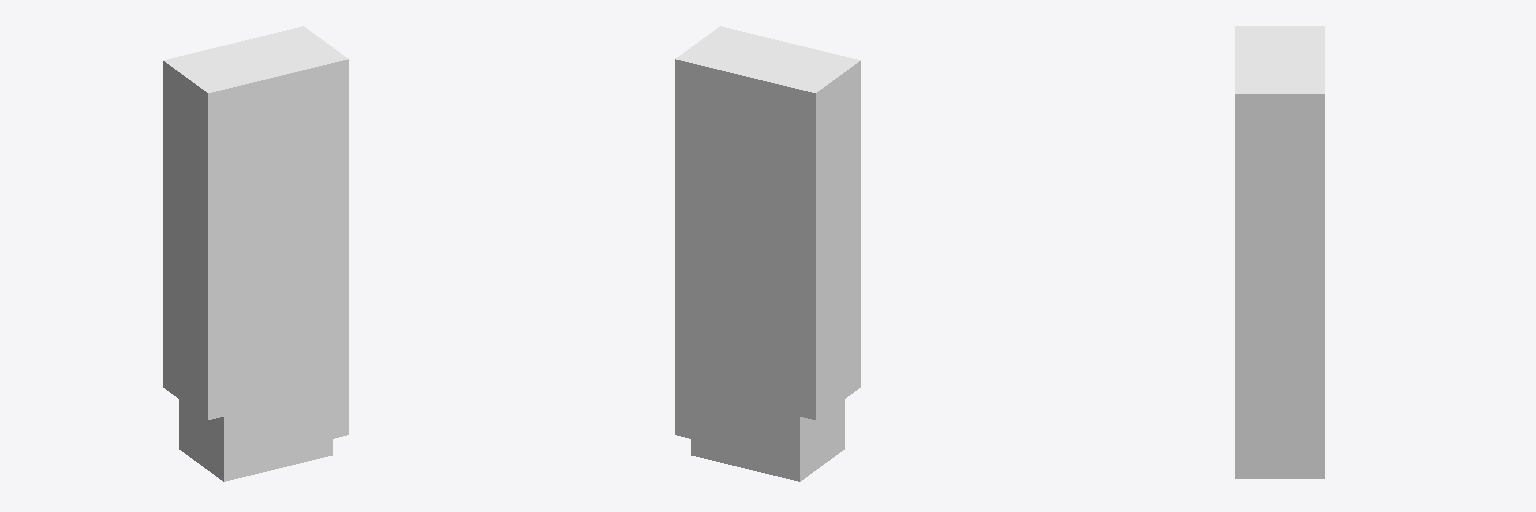
The model's file is Punisher-2.obj.
The picture shows the model from 3 angles: view 1: azimuth 30°, elevation 25°; view 2: azimuth 150°, elevation 25°; view 3: azimuth 270°, elevation 25°; orthographic projection.
Visible parts, largest first — view 1: object 1; view 2: object 1; view 3: object 1.
Boxes of the visible parts, x1=… form: object 1: x1=163, y1=26, x2=348, y2=481; object 1: x1=675, y1=26, x2=860, y2=481; object 1: x1=1235, y1=26, x2=1324, y2=478.
Size of the model in its own units: 0.9 by 2.4 by 0.5.